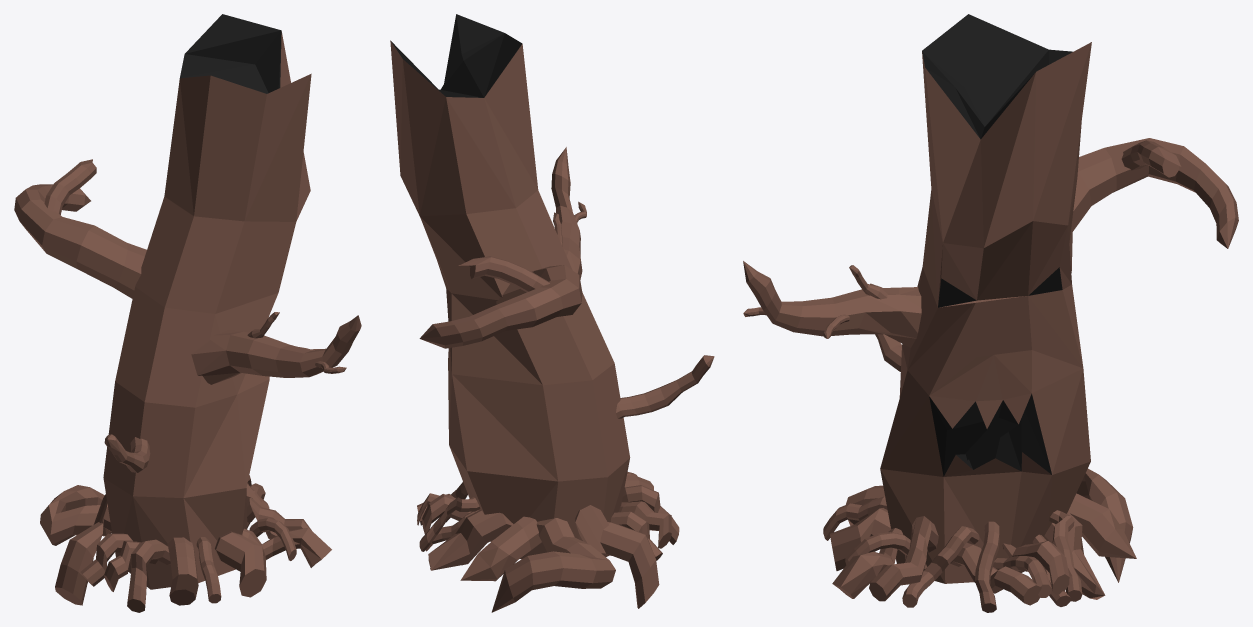
Rendered from agent_001.fbx.
3 renders of one model, left to right at view 1: azimuth 30°, elevation 25°; view 2: azimuth 150°, elevation 25°; view 3: azimuth 270°, elevation 25°, orthographic. The views are drawn at different scales.
Visible parts, largest first — view 1: group_1805933751; view 2: group_1805933751; view 3: group_1805933751.
Boxes of the visible parts, left/top/right/bottom form: group_1805933751: left=14, top=14, right=361, bottom=612; group_1805933751: left=390, top=14, right=714, bottom=612; group_1805933751: left=743, top=14, right=1238, bottom=612.
Size of the model in its own units: 43.21 by 84.71 by 62.4.
